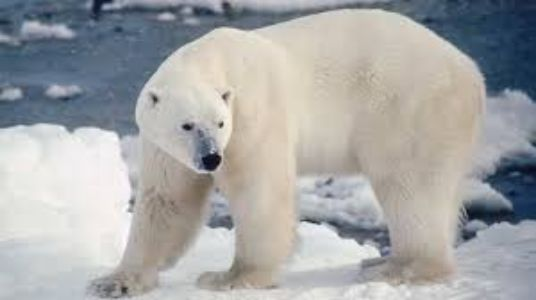bear: (126, 7, 488, 280)
